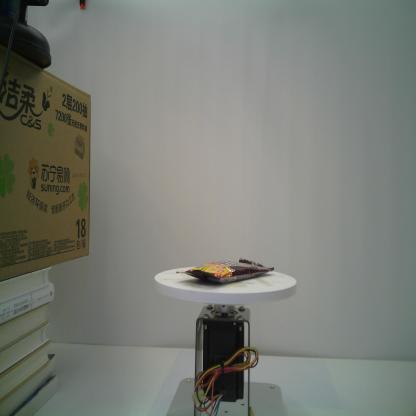Chocolate: (175, 258, 275, 284)
